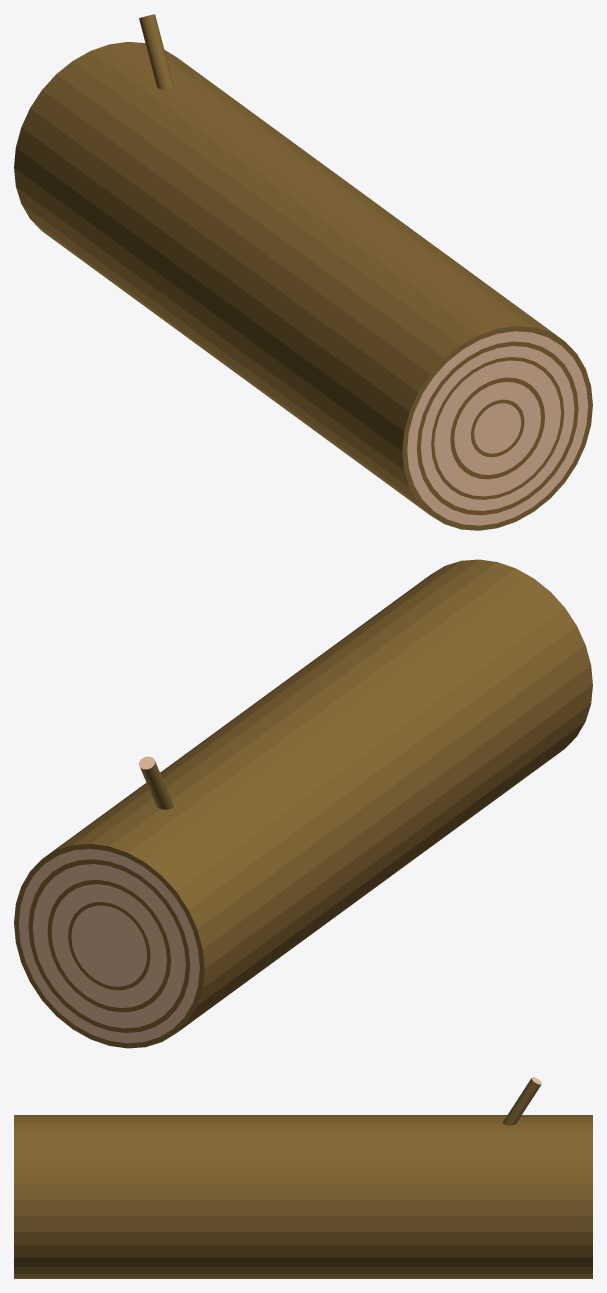
The model's file is Log.fbx.
3 renders of one model, top to bottom at view 1: azimuth 30°, elevation 25°; view 2: azimuth 150°, elevation 25°; view 3: azimuth 270°, elevation 25°, orthographic. The views are drawn at different scales.
Parts seen in each view (by area): view 1: 실린더, 실린더.001; view 2: 실린더, 실린더.001; view 3: 실린더, 실린더.001.
Part boxes in pixels (x1=…): 실린더: x1=14, y1=42, x2=592, y2=530; 실린더.001: x1=139, y1=14, x2=173, y2=89; 실린더: x1=14, y1=559, x2=592, y2=1048; 실린더.001: x1=139, y1=756, x2=173, y2=809; 실린더: x1=14, y1=1115, x2=592, y2=1278; 실린더.001: x1=503, y1=1077, x2=541, y2=1125.
Bounding box in the file's own units: 200 × 260 × 706.
